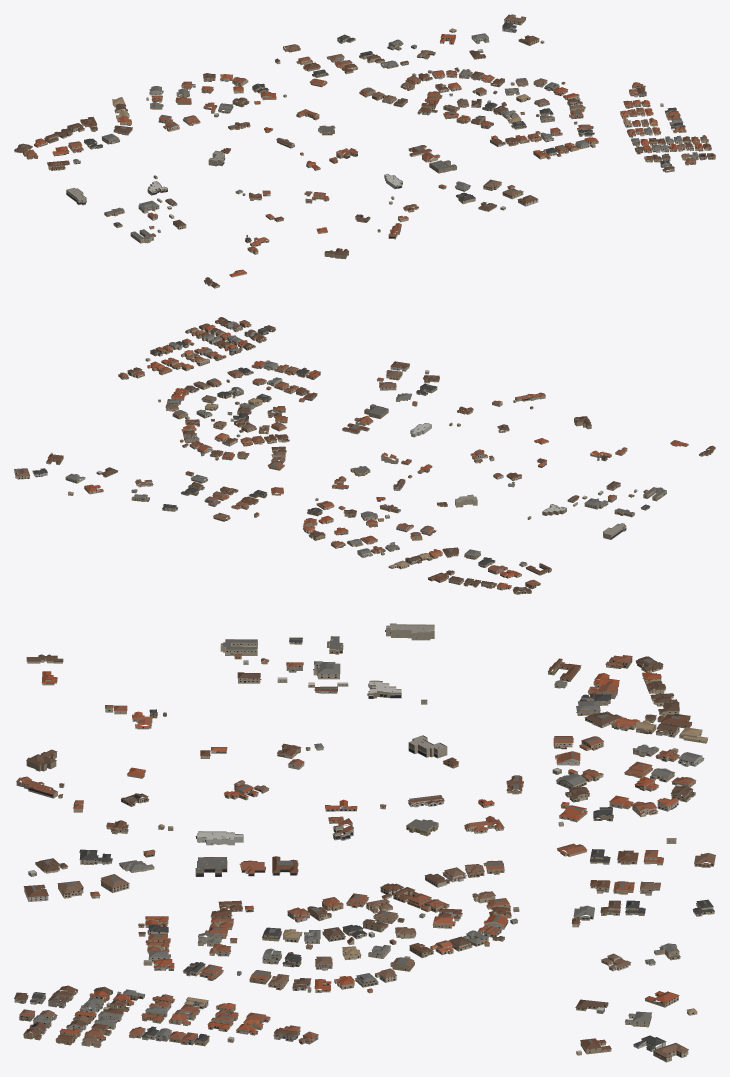
The picture shows the model from 3 angles, top to bottom: view 1: azimuth 30°, elevation 25°; view 2: azimuth 150°, elevation 25°; view 3: azimuth 270°, elevation 25°; orthographic projection. The views are drawn at different scales.
Parts seen in each view (by area): view 1: buildings_r3_c1_lod0; view 2: buildings_r3_c1_lod0; view 3: buildings_r3_c1_lod0.
Boxes of the visible parts, x1=… form: buildings_r3_c1_lod0: x1=14, y1=14, x2=715, y2=288; buildings_r3_c1_lod0: x1=14, y1=317, x2=715, y2=594; buildings_r3_c1_lod0: x1=14, y1=623, x2=715, y2=1062.
Bounding box in the file's own units: 1142 × 46.58 × 800.
